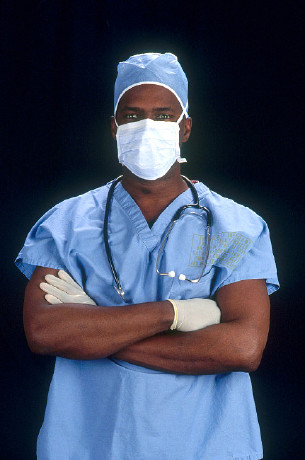face_mask: (115, 77, 181, 179)
